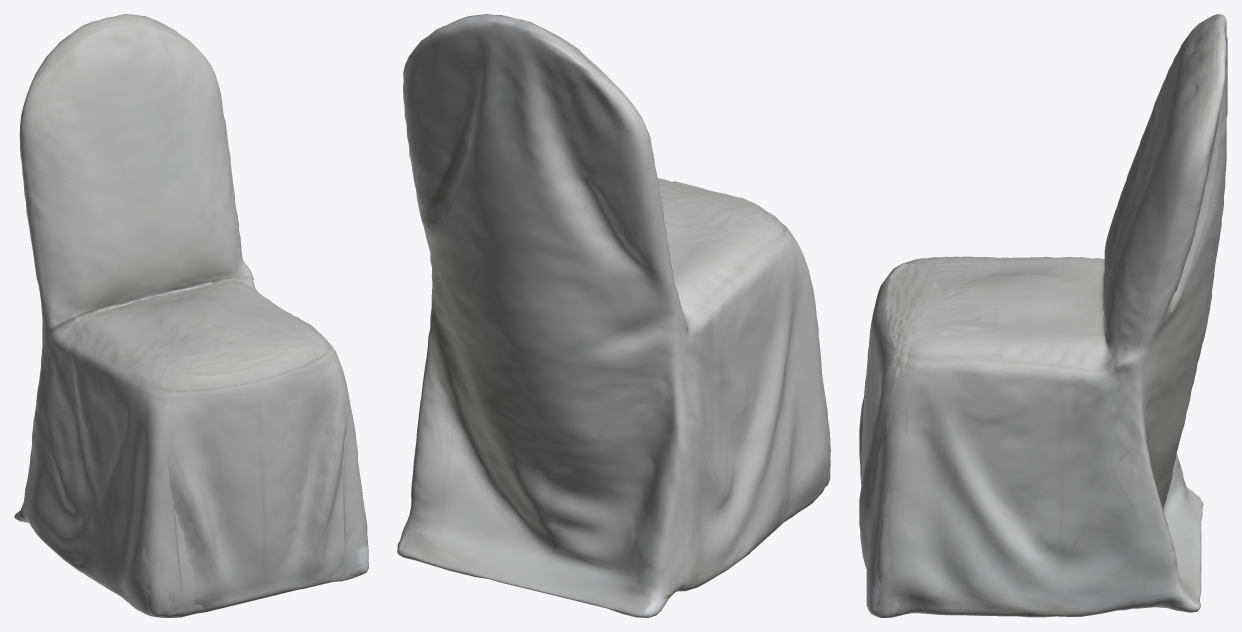
File: Banquet_Chair_Cover_0406025328_texture.glb
3 renders of one model, left to right at view 1: azimuth 30°, elevation 25°; view 2: azimuth 150°, elevation 25°; view 3: azimuth 270°, elevation 25°, orthographic. The views are drawn at different scales.
Visible parts, largest first — view 1: Mesh_0; view 2: Mesh_0; view 3: Mesh_0.
Boxes of the visible parts, x1=… form: Mesh_0: x1=14, y1=14, x2=368, y2=617; Mesh_0: x1=397, y1=14, x2=830, y2=617; Mesh_0: x1=859, y1=14, x2=1227, y2=617.
Bounding box in the file's own units: 0.438 × 0.8636 × 0.5409.
1 material, 1 textured.
